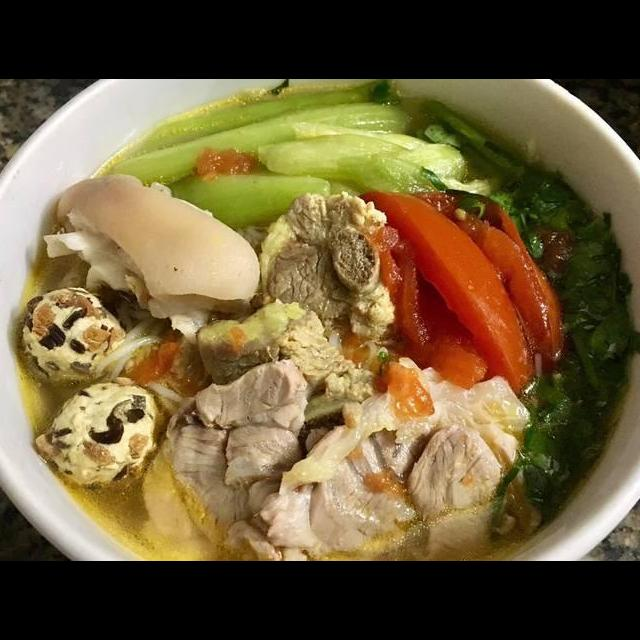bun: (103, 309, 200, 411)
bun moc: (5, 99, 634, 554)
thit heo: (220, 354, 558, 561), (137, 353, 322, 561), (241, 183, 405, 401), (184, 292, 382, 442)
vien moc: (29, 371, 173, 499), (10, 282, 129, 387)
